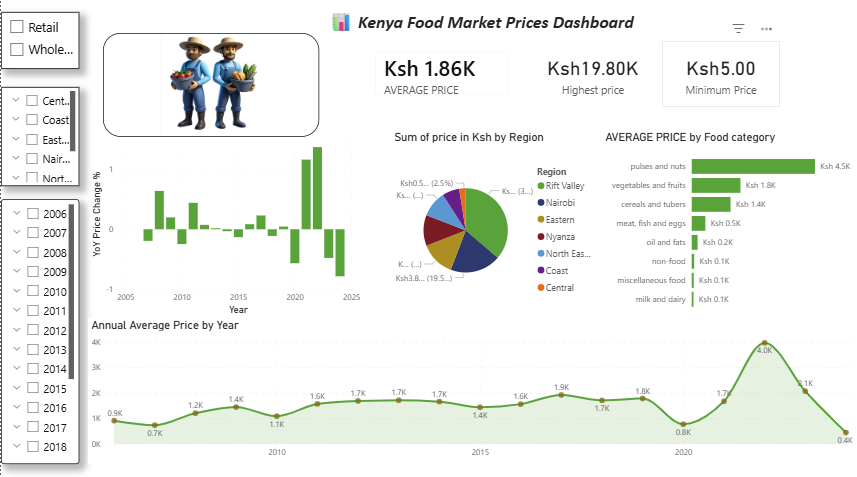

What the dashboard file says about the page in this screenshot:
{"tool":"powerbi","page":{"name":"Page 1","canvas":[1280,720],"ordinal":0},"visuals":[{"type":"clusteredColumnChart","fields":{"Y":["FACT_FOOD_PRICES.YoY Price Change %"],"Category":["DIM_DATE.Year"]},"box":[130,201.7,412.3,280.8],"z":0},{"type":"image","box":[152.4,56.8,322.7,155.4],"z":1000},{"type":"cardVisual","fields":{"Data":["FACT_FOOD_PRICES.AVERAGE PRICE"]},"box":[542.2,68.7,233,98.6],"z":2000},{"type":"slicer","fields":{"Values":["DIM_LOCATION.Region","DIM_LOCATION.Town","DIM_LOCATION.Market"]},"box":[0,137.4,116.5,147.9],"z":3000},{"type":"slicer","fields":{"Values":["DIM_DATE.Year","DIM_DATE.Quarter","DIM_DATE.Month"]},"box":[0,304.7,116.5,395.9],"z":4000},{"type":"card","fields":{"Values":["FACT_FOOD_PRICES.Highest price"]},"box":[781.2,68.7,206.1,98.6],"z":5000},{"type":"card","fields":{"Values":["FACT_FOOD_PRICES.Minimum Price"]},"box":[987.4,68.7,176.3,98.6],"z":6000},{"type":"slicer","fields":{"Values":["DIM_FOOD.pricetype"]},"box":[0,25.4,116.5,85.1],"z":7000},{"type":"lineChart","fields":{"Category":["DIM_DATE.Year"],"Y":["FACT_FOOD_PRICES.Annual Average Price"]},"box":[130,482.5,1150.2,218.1],"z":8000},{"type":"clusteredBarChart","fields":{"Category":["DIM_FOOD.Food category"],"Y":["FACT_FOOD_PRICES.AVERAGE PRICE"]},"box":[897.8,201.7,382.4,280.8],"z":9000},{"type":"pieChart","fields":{"Category":["DIM_LOCATION.Region"],"Y":["Sum(FACT_FOOD_PRICES.price in  Ksh)"]},"box":[582.6,201.7,315.2,280.8],"z":10000},{"type":"textbox","box":[485.5,14.9,487,53.8],"z":11000}]}

Visuals, with their boxes on the page's 1280x720 design canvas (x1, y1, x2, y2). These are canvas units, not pixel positions in the 857x477 screenshot, which may show the page scaled, cropped or inside an application window:
clusteredColumnChart - FACT_FOOD_PRICES.YoY Price Change % x DIM_DATE.Year: <bbox>130, 202, 542, 482</bbox>
image: <bbox>152, 57, 475, 212</bbox>
cardVisual - FACT_FOOD_PRICES.AVERAGE PRICE: <bbox>542, 69, 775, 167</bbox>
slicer - DIM_LOCATION.Region x DIM_LOCATION.Town: <bbox>0, 137, 116, 285</bbox>
slicer - DIM_DATE.Year x DIM_DATE.Quarter: <bbox>0, 305, 116, 701</bbox>
card - FACT_FOOD_PRICES.Highest price: <bbox>781, 69, 987, 167</bbox>
card - FACT_FOOD_PRICES.Minimum Price: <bbox>987, 69, 1164, 167</bbox>
slicer - DIM_FOOD.pricetype: <bbox>0, 25, 116, 110</bbox>
lineChart - DIM_DATE.Year x FACT_FOOD_PRICES.Annual Average Price: <bbox>130, 482, 1280, 701</bbox>
clusteredBarChart - DIM_FOOD.Food category x FACT_FOOD_PRICES.AVERAGE PRICE: <bbox>898, 202, 1280, 482</bbox>
pieChart - DIM_LOCATION.Region x Sum(FACT_FOOD_PRICES.price in  Ksh): <bbox>583, 202, 898, 482</bbox>
textbox: <bbox>486, 15, 972, 69</bbox>
